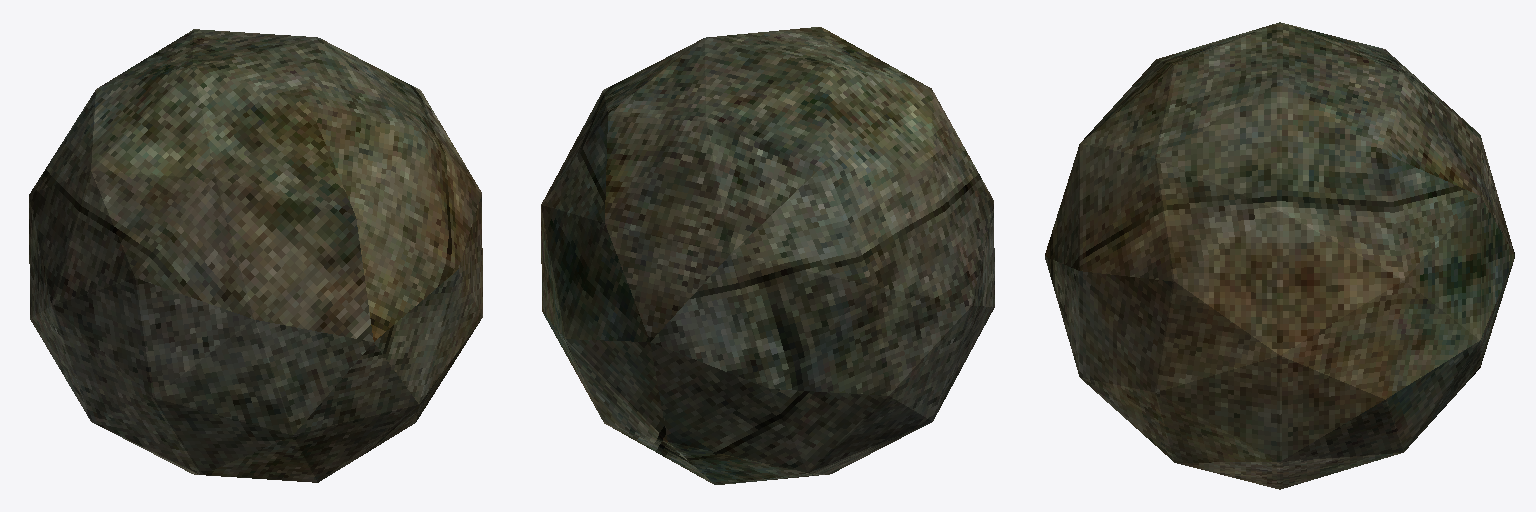
3 views of the same model, side by side, from view 1: azimuth 30°, elevation 25°; view 2: azimuth 150°, elevation 25°; view 3: azimuth 270°, elevation 25° (orthographic).
Visible parts, largest first — view 1: Icosphere; view 2: Icosphere; view 3: Icosphere.
Part boxes in pixels (x1,y1,x2,y2): Icosphere: (29, 29, 482, 482); Icosphere: (541, 27, 994, 484); Icosphere: (1045, 22, 1514, 489).
Size of the model in its own units: 1024 by 974 by 1024.
1 materials, 1 textured.